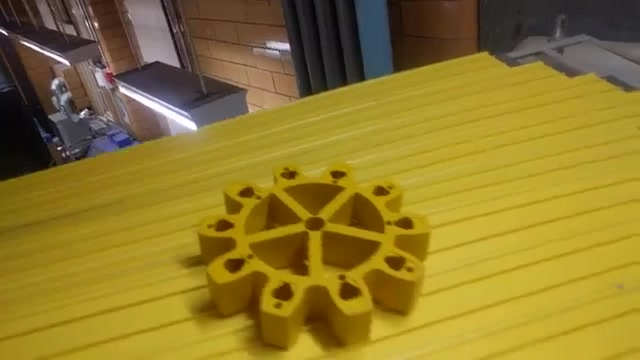gear: (181, 151, 440, 359)
